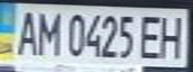0: (63, 10, 87, 57)
2: (100, 11, 121, 60)
4: (84, 10, 103, 58)
5: (115, 11, 139, 60)
A: (12, 7, 42, 57)
E: (136, 12, 166, 61)
H: (157, 11, 190, 60)
M: (33, 8, 63, 57)
